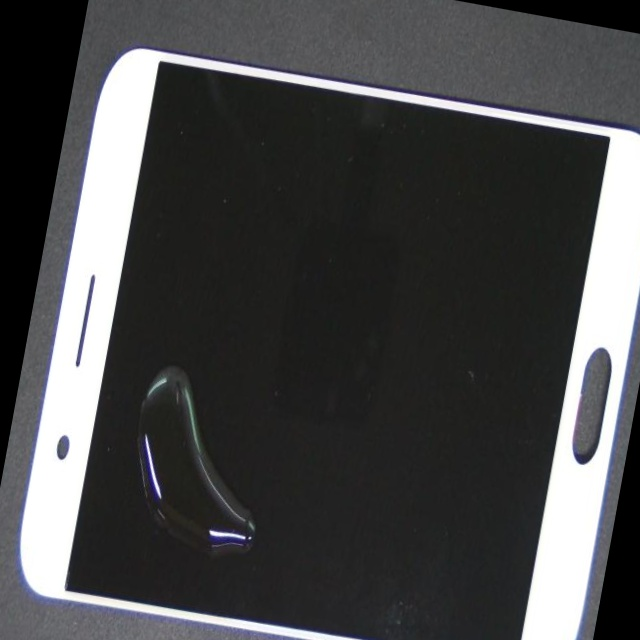oil: (15, 214, 320, 640)
